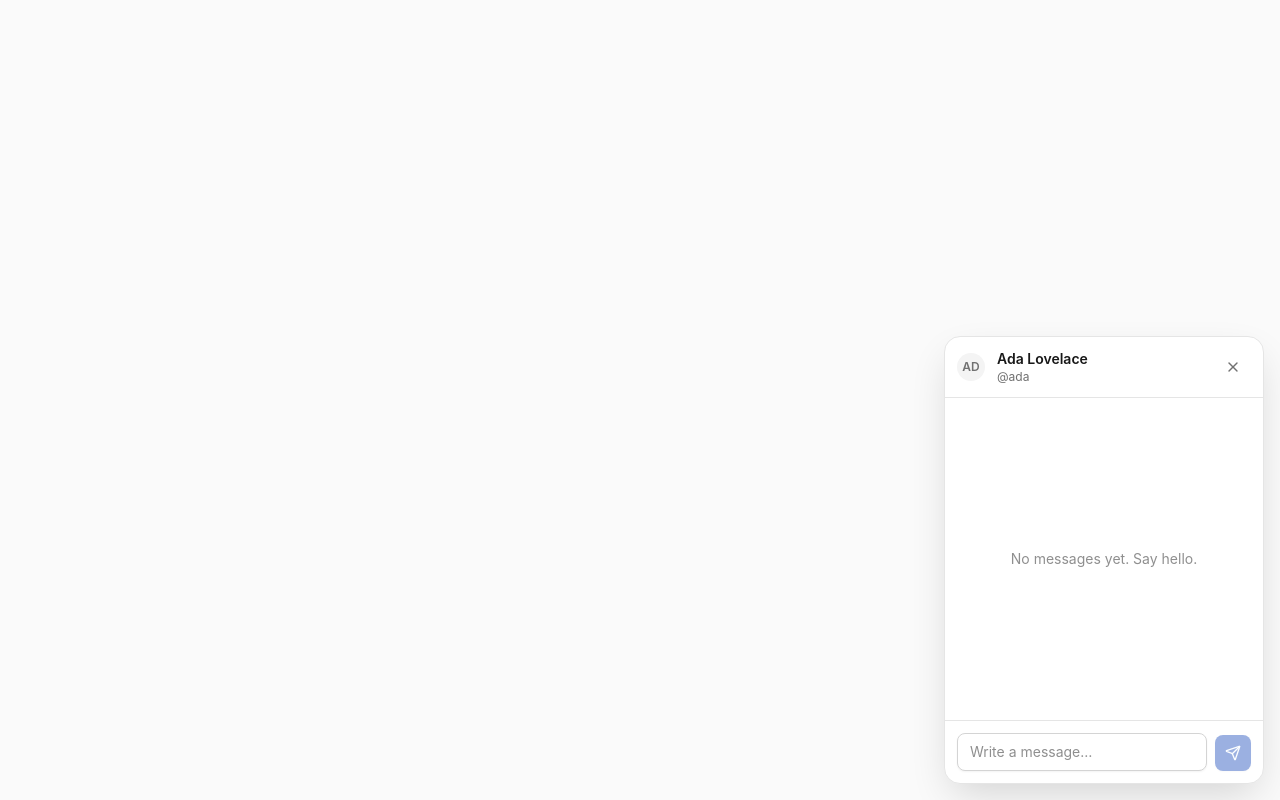
Test: a message that cannot be sent is shown as not delivered
The width and height of the screenshot is (1280, 800).
Type "anyone home?" into the text box.
click(1082, 752); type("anyone home?")  # box 957,733 -> 1207,771
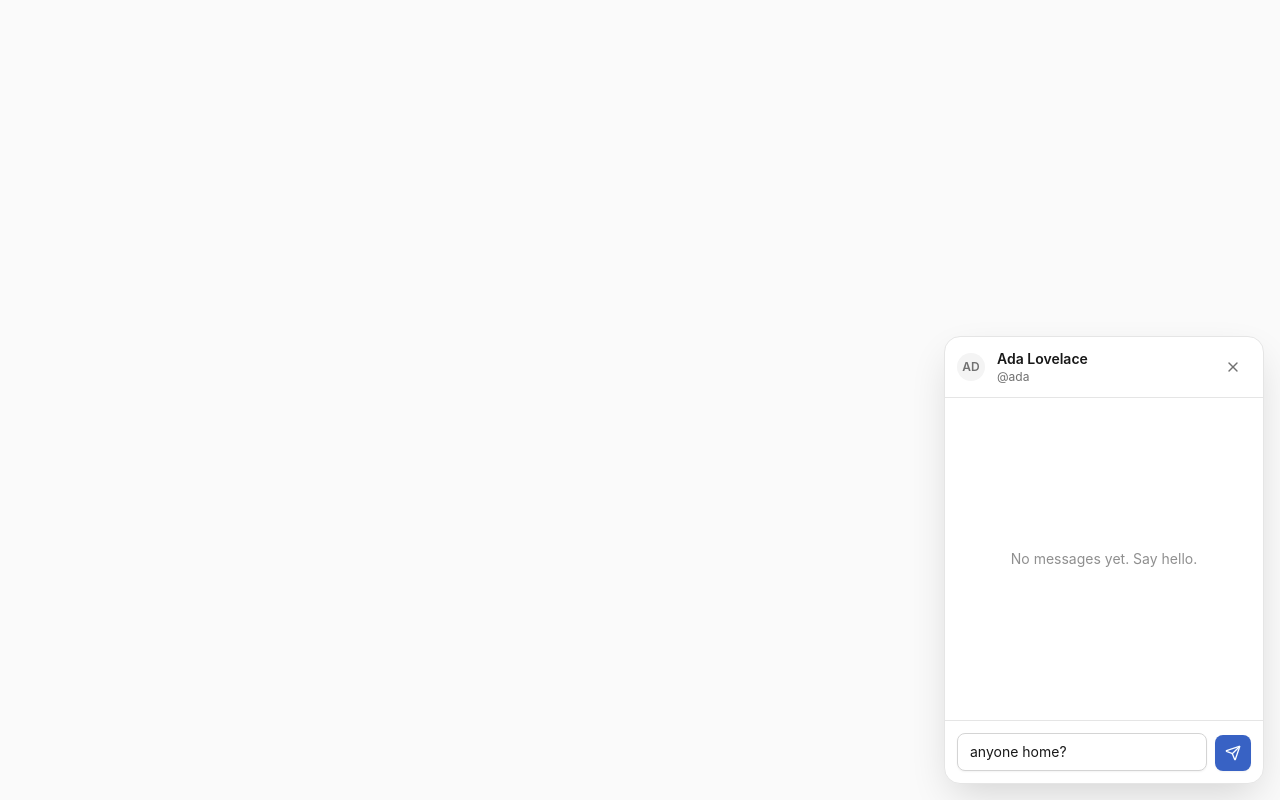
Click the button named "Send".
click(1233, 753)  # box 1215,735 -> 1251,771
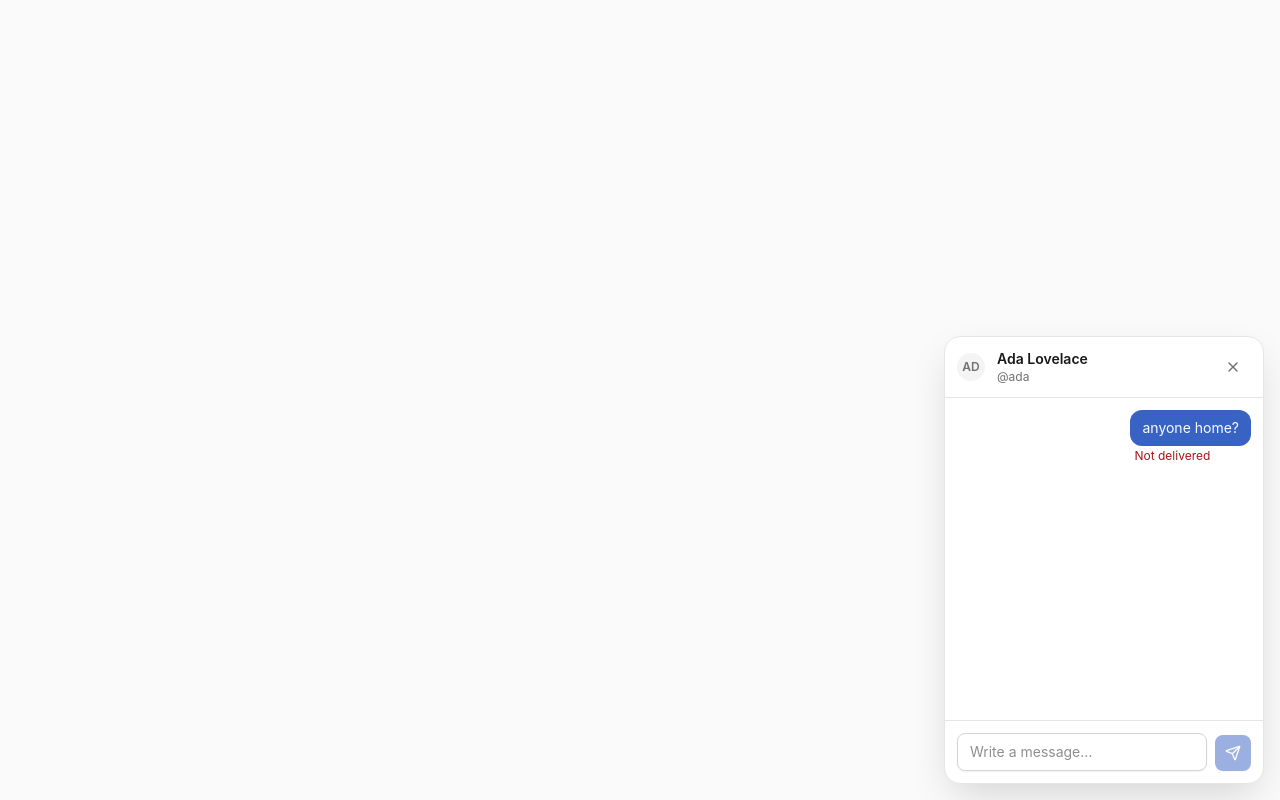
Check: the text "anyone home?" is shown, box 1130,410 -> 1251,446
Check: the text "Not delivered" is shown, box 1134,448 -> 1210,463
